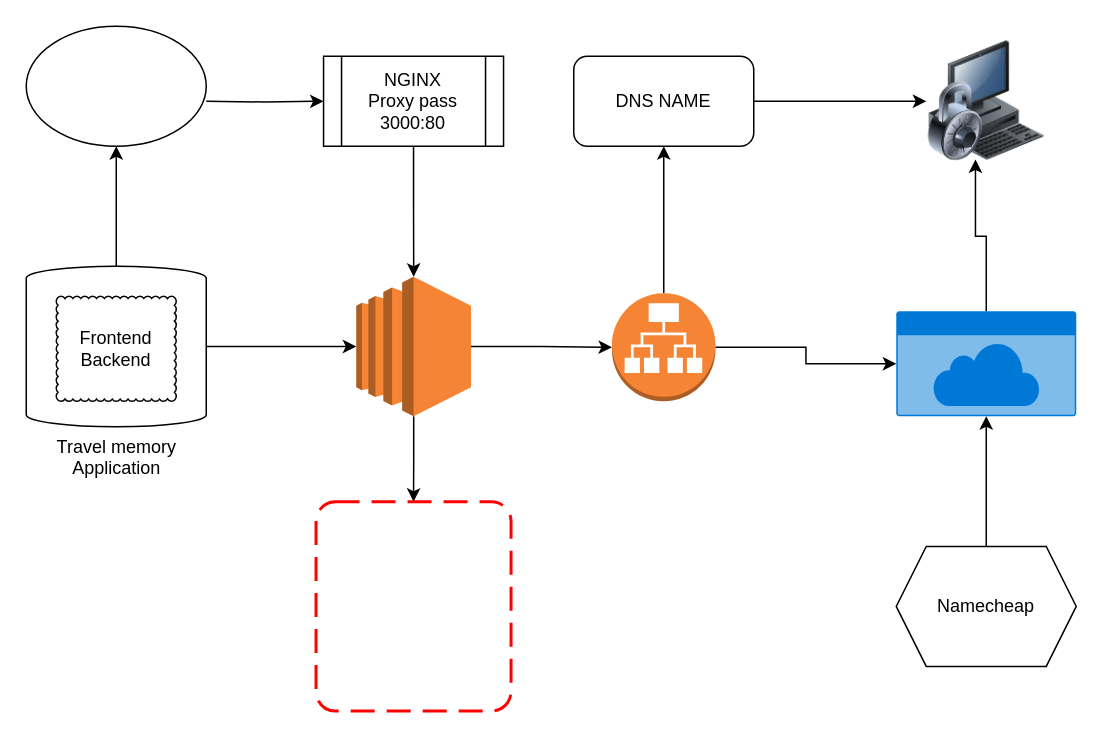
The diagram is 1103 pixels wide and 738 high, and some of its shapes have lost their labels. The shapes that lost their labels are listed below. From the top down, each one's centre as x and y in pixels, then its label:
At point (115, 85): "Mongdb Nginx conf".
At point (986, 363): "Cloud flare".
At point (413, 606): "Security groups 3000, 3001, 80,443,22,21".
